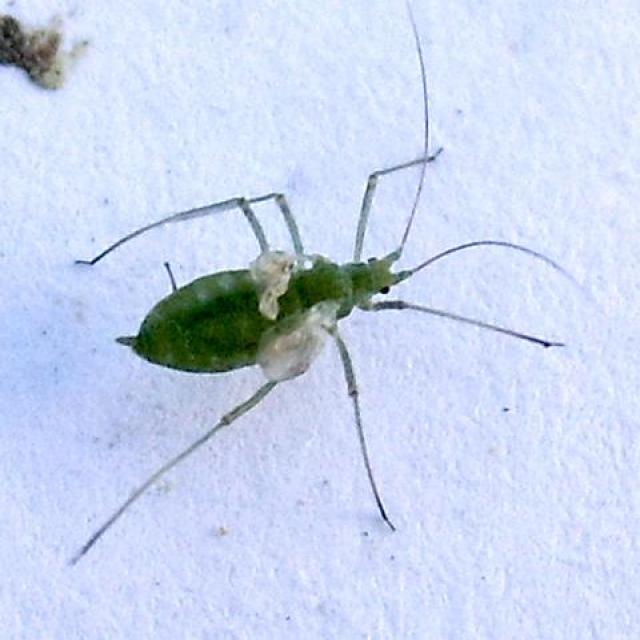Aphids: (119, 178, 518, 491)
